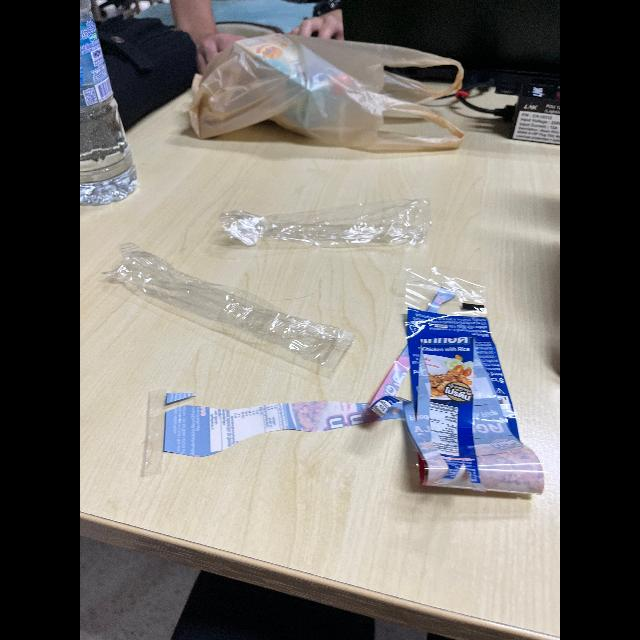scrap_plastic: (388, 271, 546, 494), (112, 243, 360, 381), (210, 198, 448, 268)
